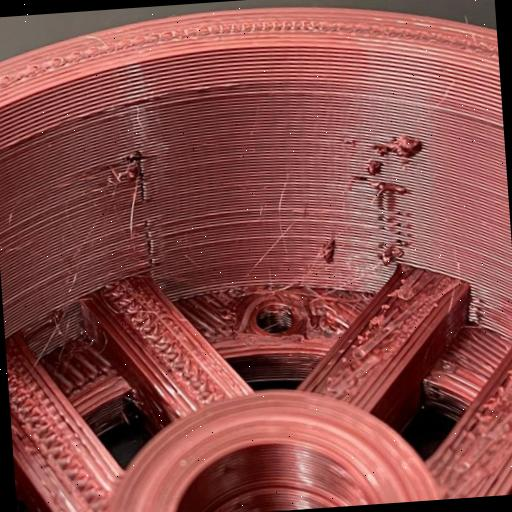cracks: (299, 124, 446, 276), (93, 133, 205, 284)
